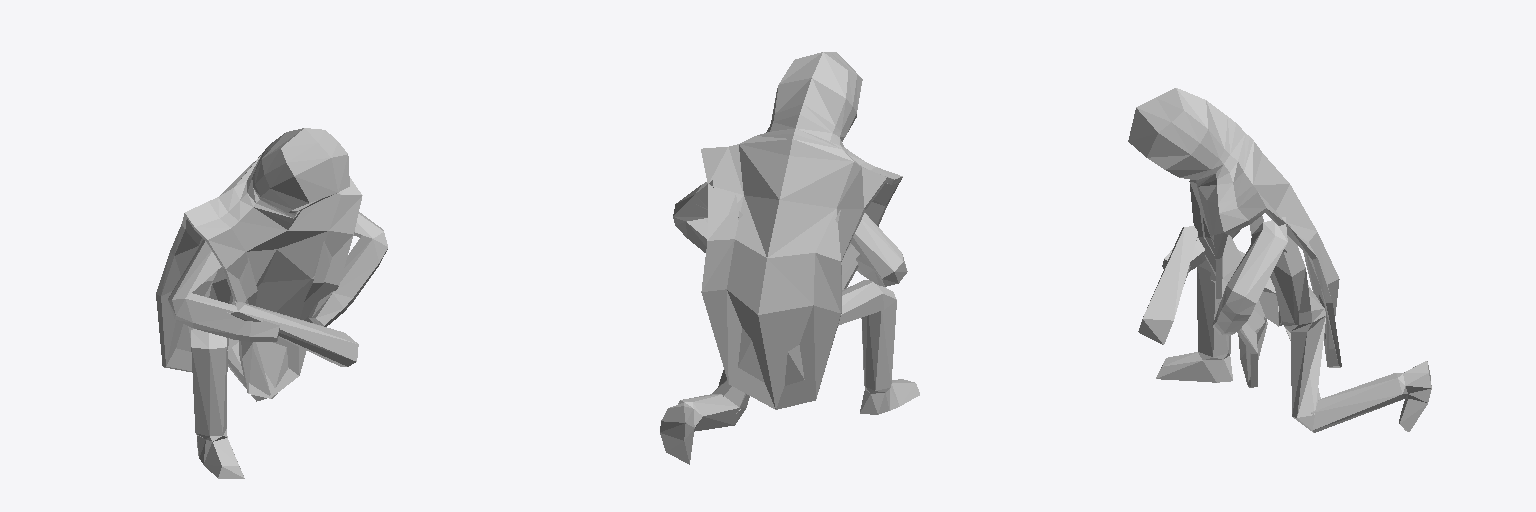
File: Dude_Light1.obj
The picture shows the model from 3 angles: view 1: azimuth 30°, elevation 25°; view 2: azimuth 150°, elevation 25°; view 3: azimuth 270°, elevation 25°; orthographic projection.
Visible parts, largest first — view 1: Dude.HOOD.005_Cube.021, Dude.BOD.005_Cube.020, Cube.006_Cube.018; view 2: Dude.HOOD.005_Cube.021, Dude.BOD.005_Cube.020; view 3: Dude.HOOD.005_Cube.021, Dude.BOD.005_Cube.020, Cube.006_Cube.018.
Boxes of the visible parts, <box> form: Dude.HOOD.005_Cube.021: <box>156,128,362,398</box>; Dude.BOD.005_Cube.020: <box>168,212,387,478</box>; Cube.006_Cube.018: <box>227,301,358,366</box>; Dude.HOOD.005_Cube.021: <box>701,52,902,409</box>; Dude.BOD.005_Cube.020: <box>660,180,919,464</box>; Dude.HOOD.005_Cube.021: <box>1128,88,1341,387</box>; Dude.BOD.005_Cube.020: <box>1156,216,1431,432</box>; Cube.006_Cube.018: <box>1138,226,1197,344</box>.
Bounding box in the file's own units: 2.87 × 4.16 × 3.44.